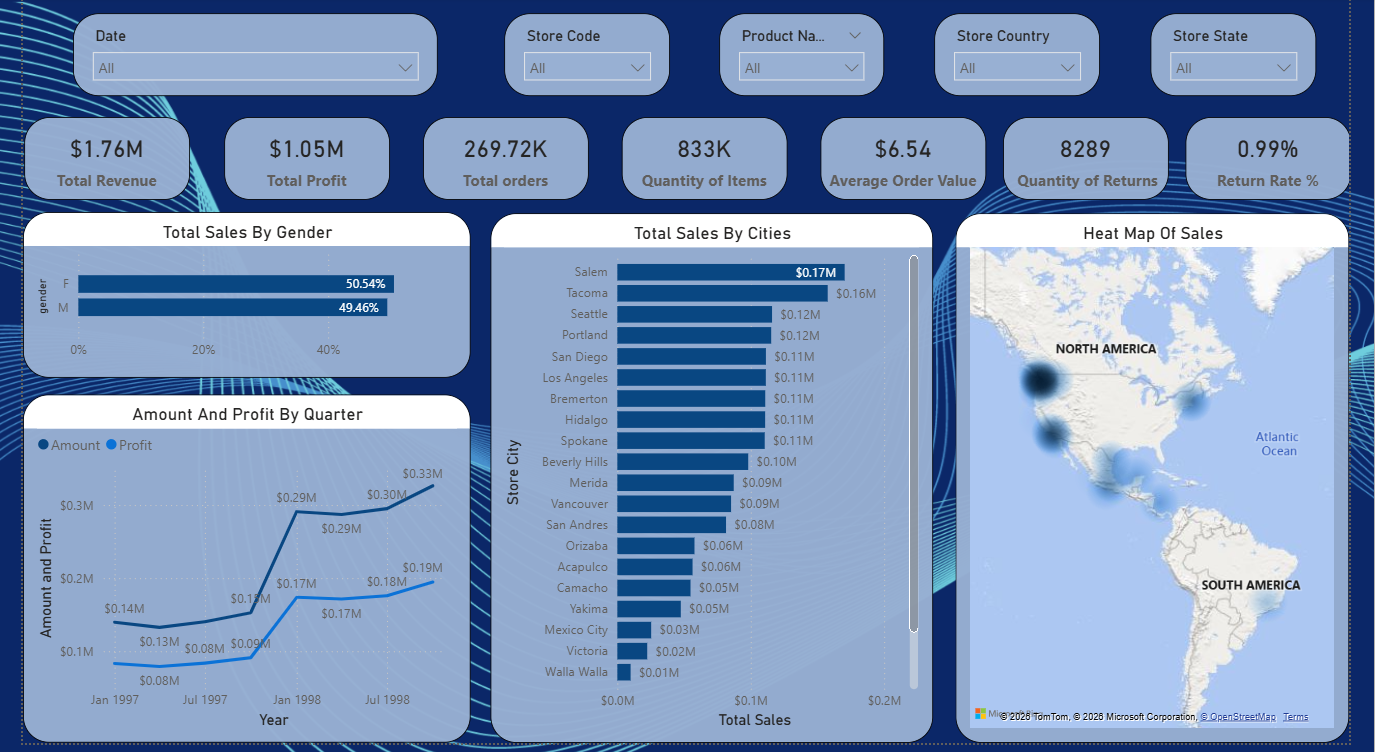

This screenshot's page, from the dashboard's own definition file:
{"tool":"powerbi","page":{"name":"Page 1","canvas":[1280,720],"ordinal":0},"visuals":[{"type":"slicer","fields":{"Values":["Calendar.Date.Variation.Date Hierarchy.Year","Calendar.Date.Variation.Date Hierarchy.Quarter","Calendar.Date.Variation.Date Hierarchy.Month","Calendar.Date.Variation.Date Hierarchy.Day"]},"box":[48,16,352,80],"z":0},{"type":"card","fields":{"Values":["Sum(Fact_sales.Amount)"]},"box":[1.6,115.8,160,80],"z":4000},{"type":"card","fields":{"Values":["Sum(Fact_sales.Profit)"]},"box":[193.6,115.8,160,80],"z":5000},{"type":"card","fields":{"Values":["CountNonNull(Fact_sales.transaction_date)"]},"box":[385.6,115.8,160,80],"z":6000},{"type":"slicer","fields":{"Values":["Stores.store_name"]},"box":[464,16,160,80],"z":7000},{"type":"slicer","fields":{"Values":["Products.product_name"]},"box":[672,16,159,80],"z":8000},{"type":"slicer","fields":{"Values":["Stores.store_state"]},"box":[1088,16,160,80],"z":9000},{"type":"slicer","fields":{"Values":["Stores.store_country"]},"box":[880,16,160,80],"z":10000},{"type":"card","fields":{"Values":["Fact_sales.Avrage Order Value"]},"box":[769.6,115.8,160,80],"z":11000},{"type":"card","fields":{"Values":["Sum(Returns.quantity)"]},"box":[945.6,115.8,160,80],"z":12000},{"type":"card","fields":{"Values":["Returns.Return Rate %"]},"box":[1121.6,115.8,160,80],"z":13000},{"type":"card","fields":{"Values":["Sum(Fact_sales.quantity)"]},"box":[577.6,115.8,160,80],"z":14000},{"type":"clusteredBarChart","title":"Total Sales By Cities","fields":{"Y":["Sum(Fact_sales.Amount)"],"Category":["Stores.store_city"]},"box":[451.2,208.7,427.1,511.5],"z":15000},{"type":"lineChart","title":"Amount And Profit By Quarter","fields":{"Category":["Calendar.Date.Variation.Date Hierarchy.Year","Calendar.Date.Variation.Date Hierarchy.Quarter"],"Y":["Sum(Fact_sales.Amount)","Sum(Fact_sales.Profit)"]},"box":[0,384,432,336],"z":16000},{"type":"map","title":"Heat Map Of Sales","fields":{"Size":["Sum(Fact_sales.Amount)"],"Category":["Stores.store_city"]},"box":[900,208.7,380,511.5],"z":17000},{"type":"barChart","title":"Total Sales By Gender","fields":{"Y":["Sum(Fact_sales.Amount)"],"Category":["Customers.gender"]},"box":[0,208,432,160],"z":18000}]}

Visuals, with their boxes in screenshot pixels (x1, y1, x2, y2), scaled from the page's 1280x720 canvas onto the 1375x752 screenshot:
slicer - Calendar.Date.Variation.Date Hierarchy.Year x Calendar.Date.Variation.Date Hierarchy.Quarter: select_region(52, 17, 430, 100)
card - Sum(Fact_sales.Amount): select_region(2, 121, 174, 205)
card - Sum(Fact_sales.Profit): select_region(208, 121, 380, 205)
card - CountNonNull(Fact_sales.transaction_date): select_region(414, 121, 586, 205)
slicer - Stores.store_name: select_region(498, 17, 670, 100)
slicer - Products.product_name: select_region(722, 17, 893, 100)
slicer - Stores.store_state: select_region(1169, 17, 1341, 100)
slicer - Stores.store_country: select_region(945, 17, 1117, 100)
card - Fact_sales.Avrage Order Value: select_region(827, 121, 999, 205)
card - Sum(Returns.quantity): select_region(1016, 121, 1188, 205)
card - Returns.Return Rate %: select_region(1205, 121, 1374, 205)
card - Sum(Fact_sales.quantity): select_region(620, 121, 792, 205)
"Total Sales By Cities" clusteredBarChart: select_region(485, 218, 943, 751)
"Amount And Profit By Quarter" lineChart: select_region(0, 401, 464, 751)
"Heat Map Of Sales" map: select_region(967, 218, 1374, 751)
"Total Sales By Gender" barChart: select_region(0, 217, 464, 384)
